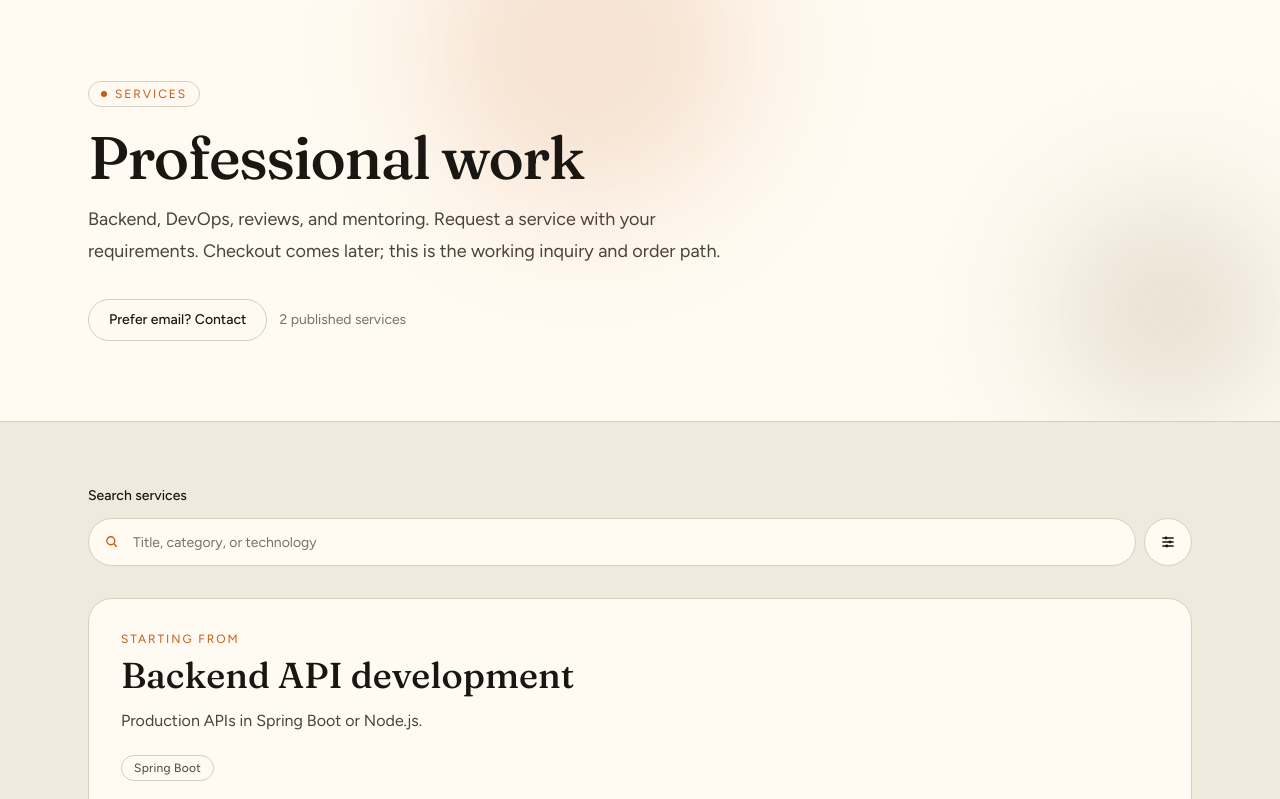
Test: ServicesPage › filters services by search and category
Check: the heading "Backend API development" is shown, box [121,653,574,697]
Type "Architecture" into the search field labelled "Search services" at (612, 542), box [88,518,1136,566]
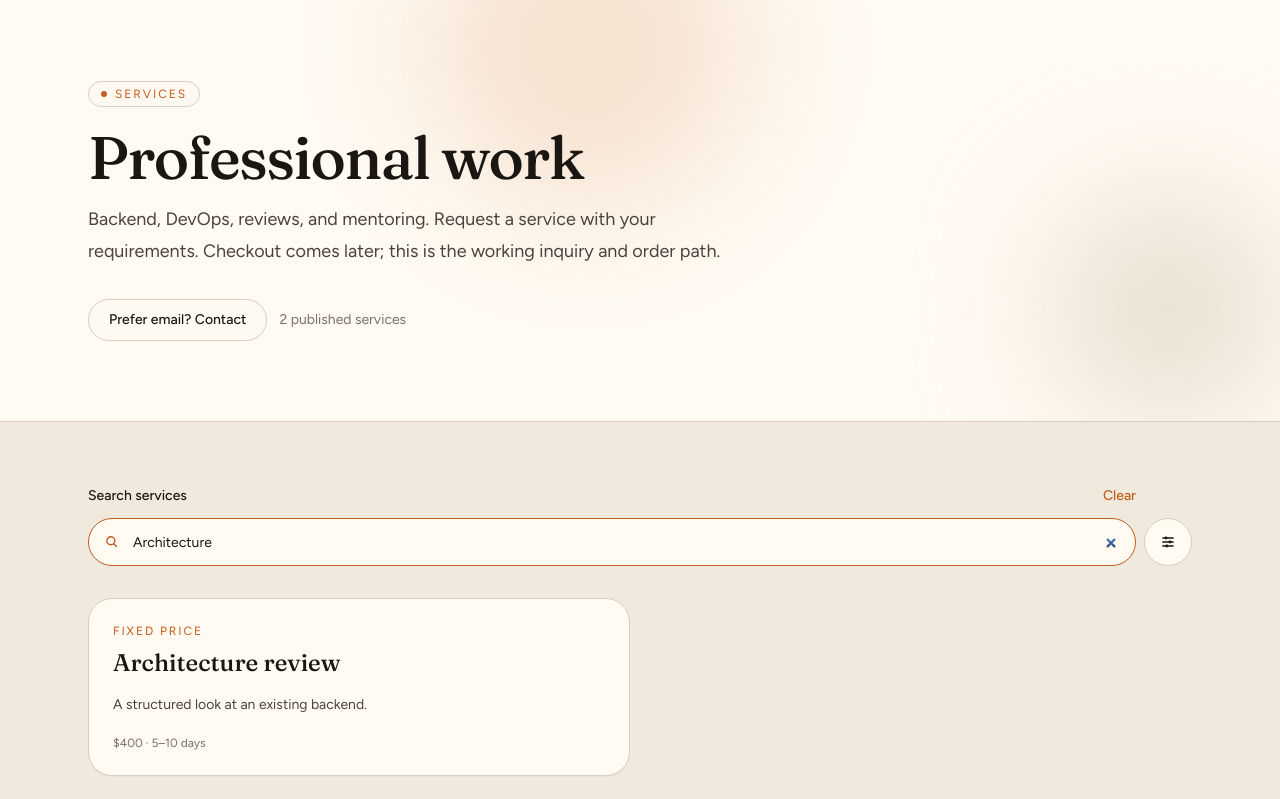
Check: the link "Backend API development" is gone
Check: the heading "Architecture review" is shown, box [113,648,340,677]
Click the button "Clear" at (1119, 496), box [1103,486,1136,506]
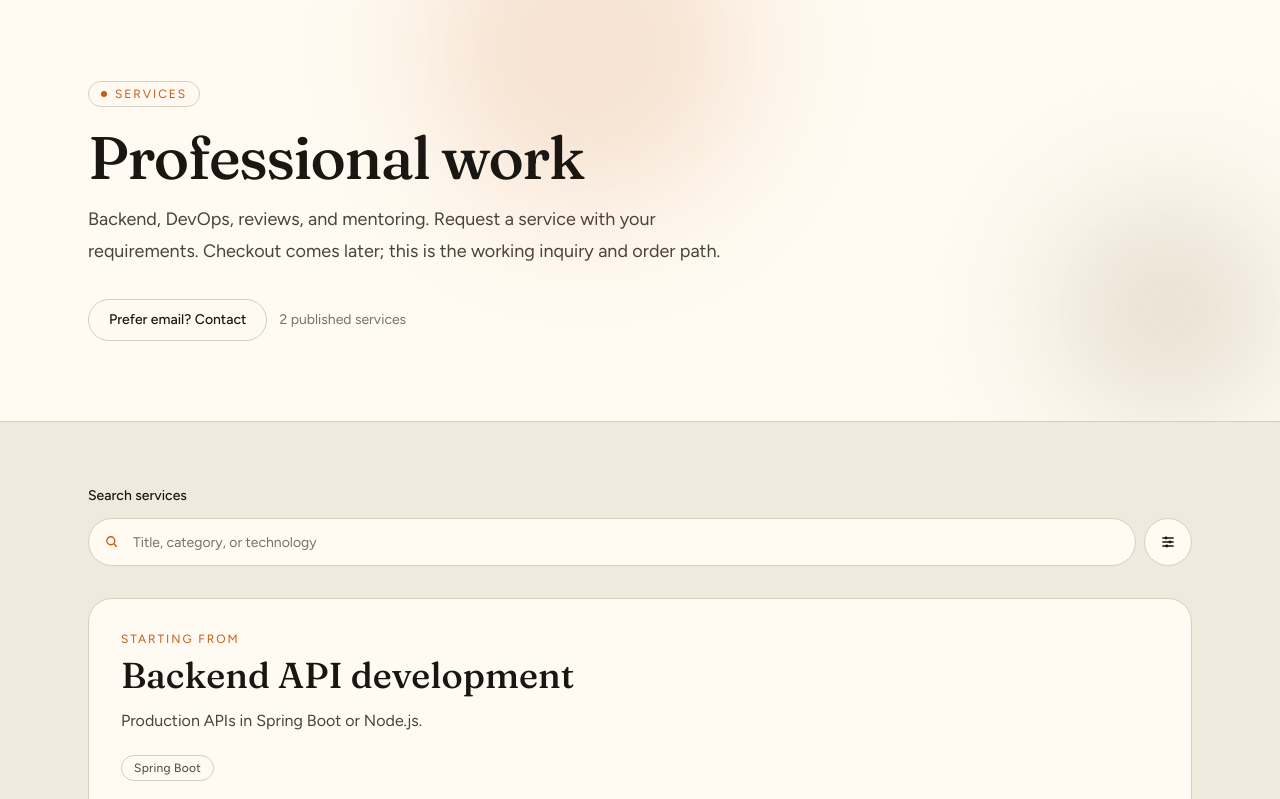
Click the button named "Filters" at (1168, 542), box [1144,518,1192,566]
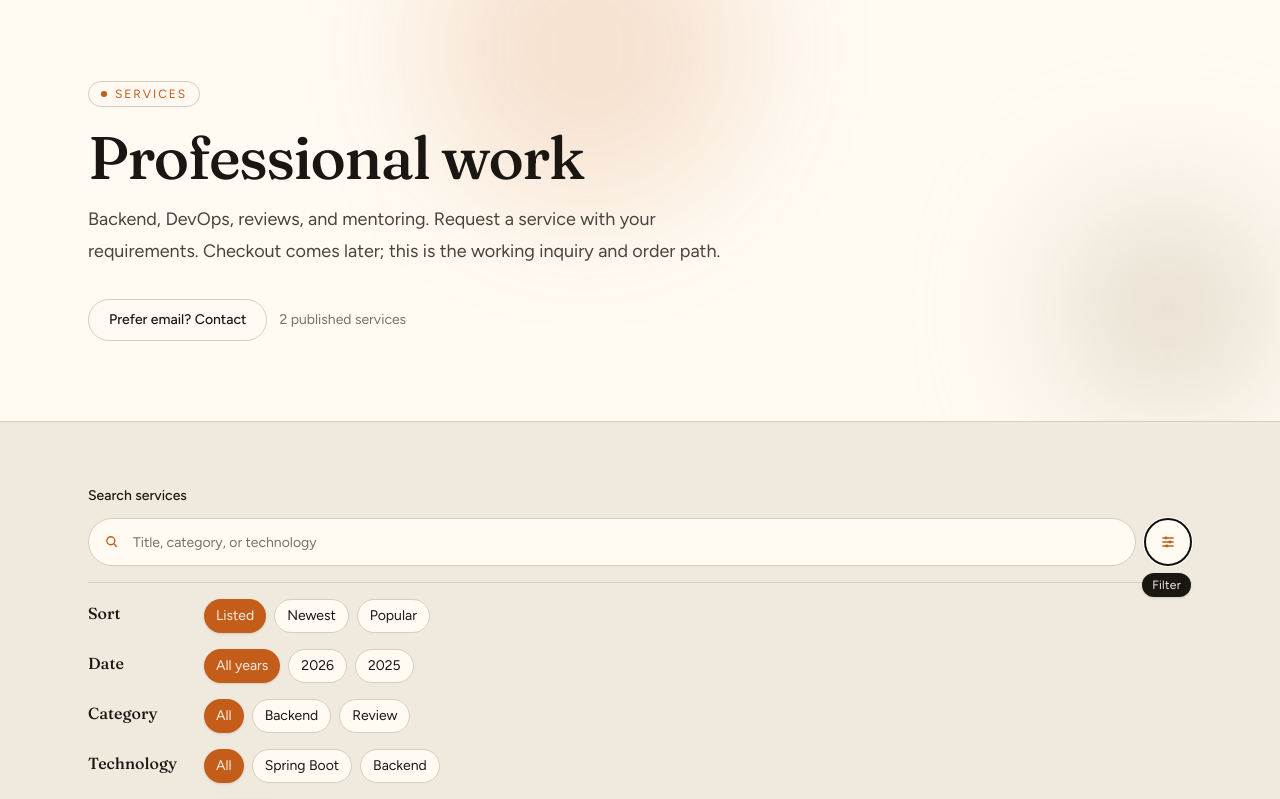
Click the button "Backend" in the row of "Category" at (291, 716), box [252,699,331,733]
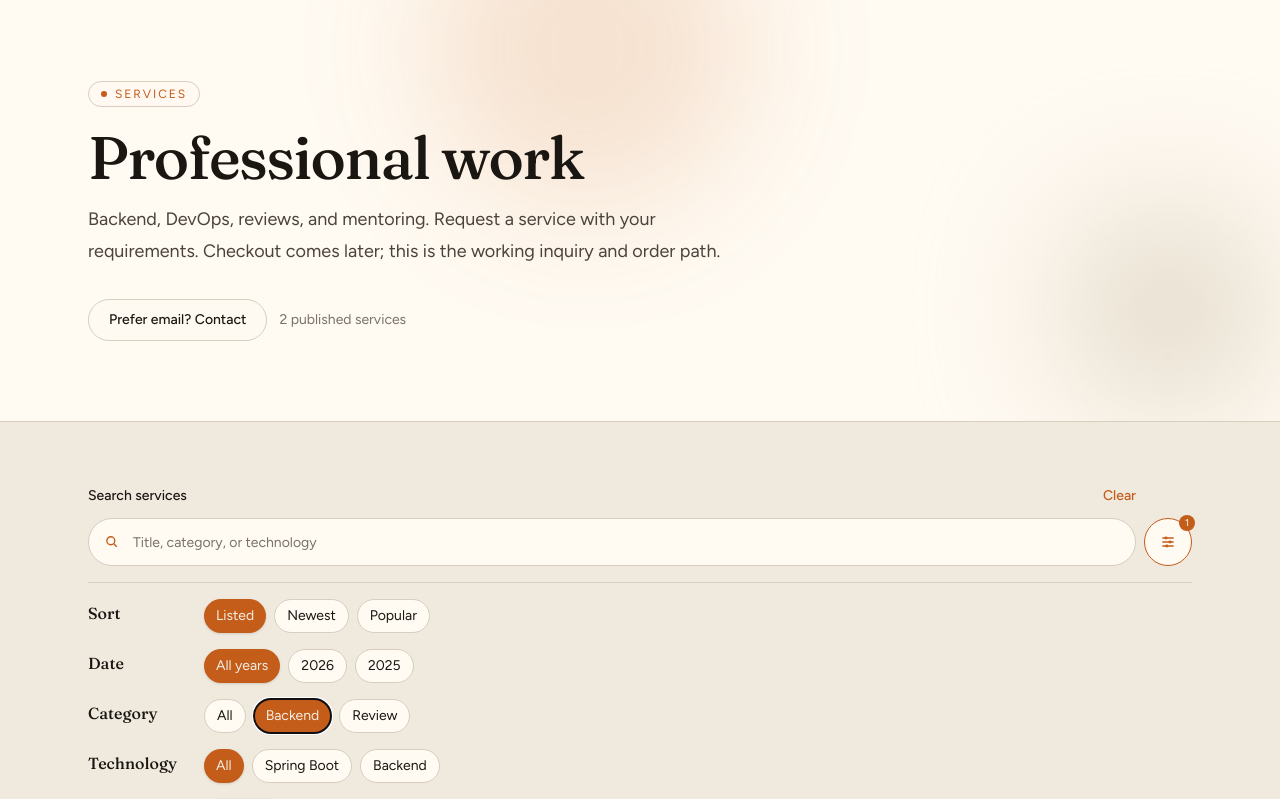
Check: the link "Architecture review" is not shown
Click the button "Clear" at (1119, 496), box [1103,486,1136,506]
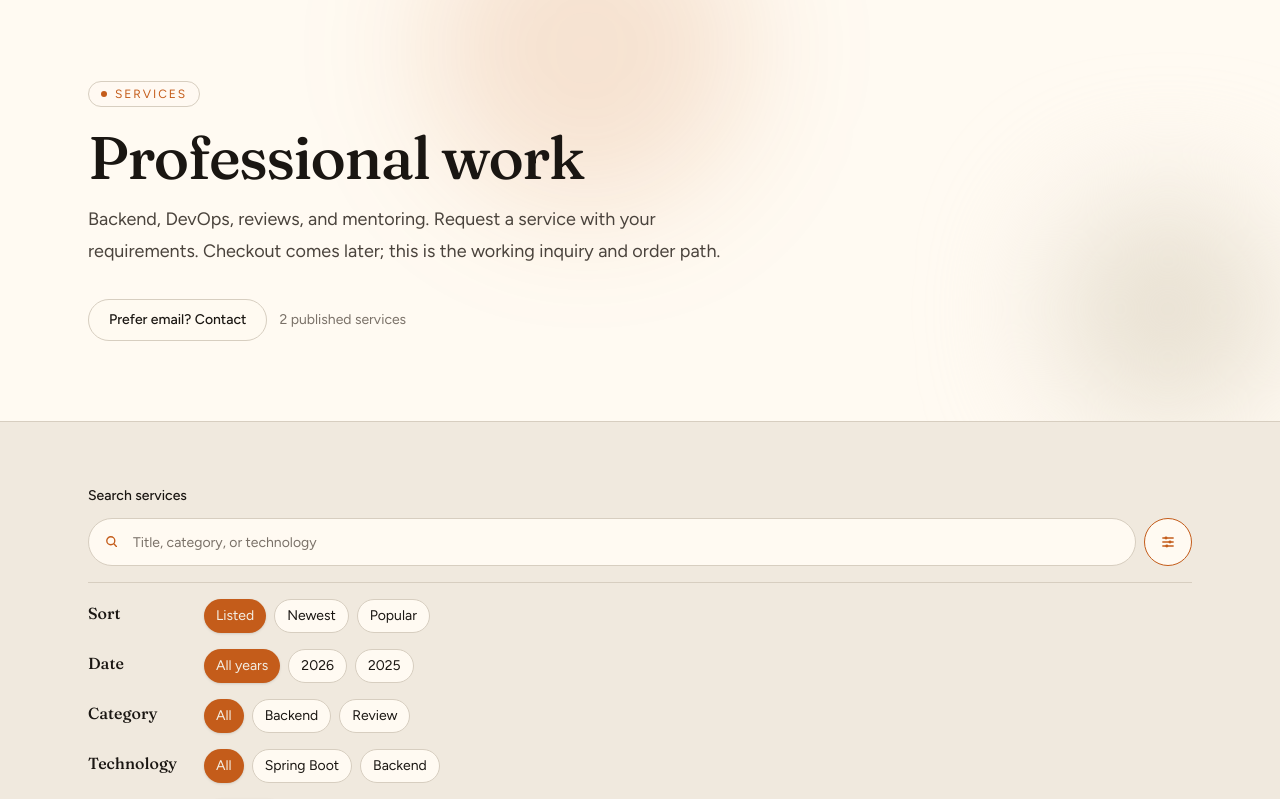
Click the button "2025" at (384, 666), box [355,649,414,683]
(page scrolled)
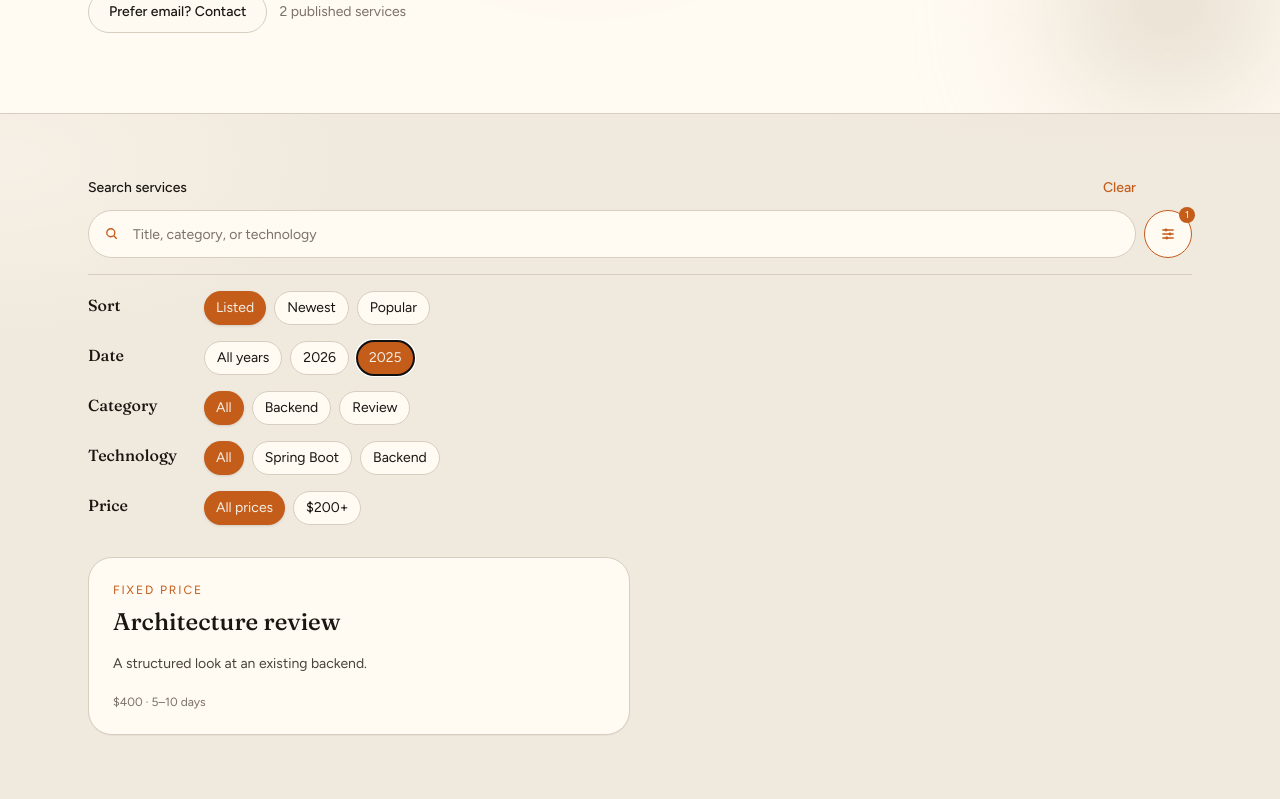
Check: the link "Backend API development" is not shown
Check: the heading "Architecture review" is shown, box [113,607,340,636]
